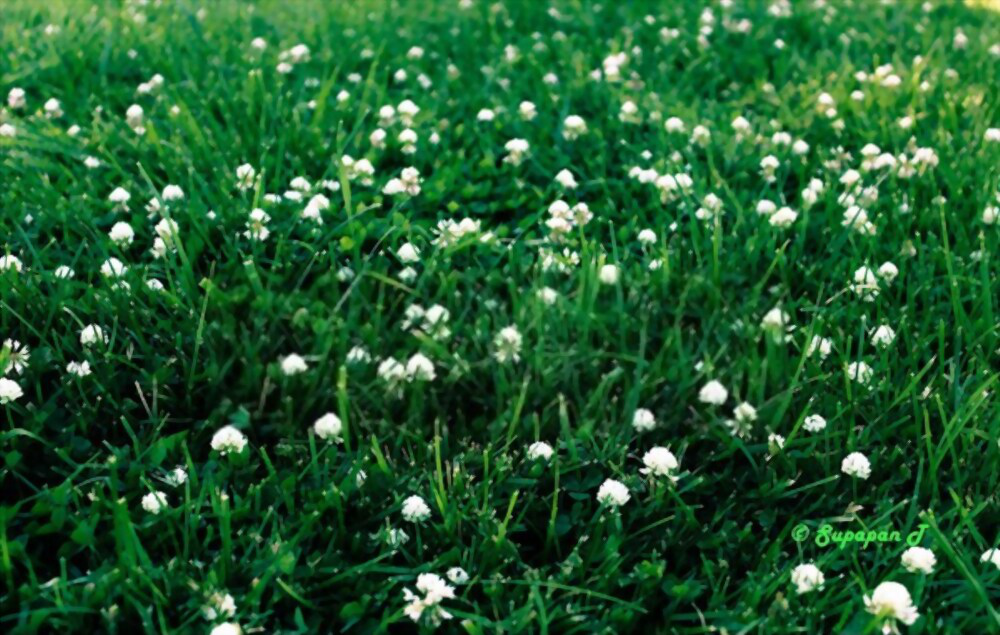clover: (17, 57, 982, 635)
